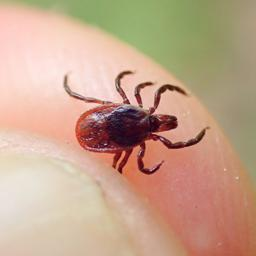Ixodes scapularis: (60, 71, 208, 176)
